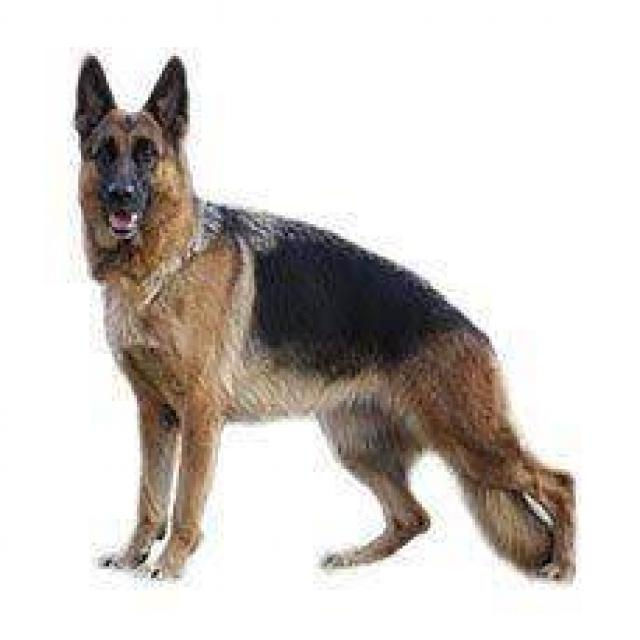Dog: (65, 44, 577, 584)
